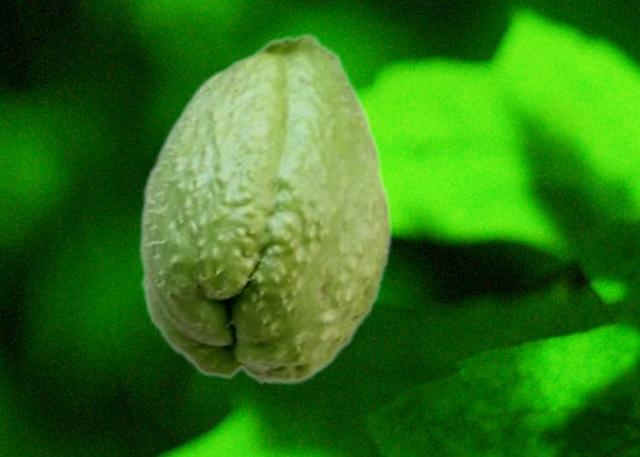sayote: (138, 31, 393, 385)
